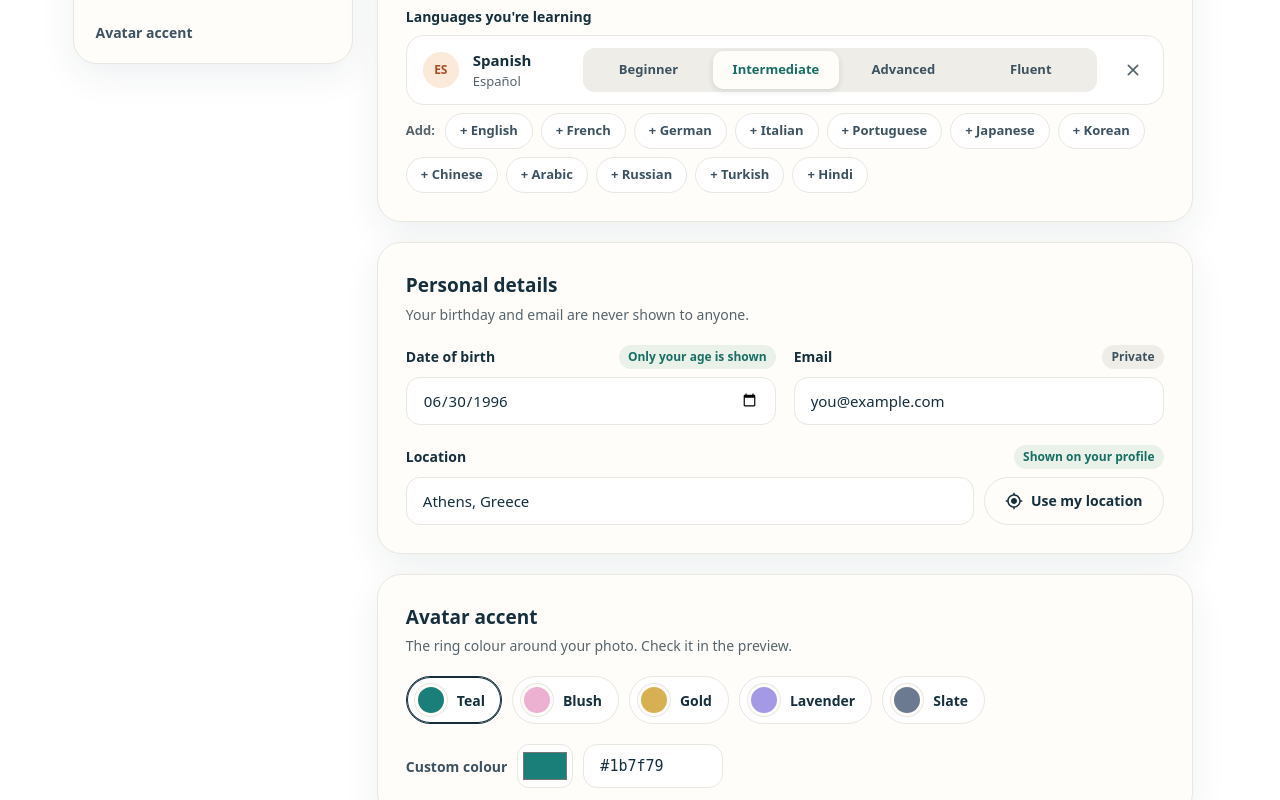
Scenario: EditProfilePage › changing the email back to the saved one hides the password field
The width and height of the screenshot is (1280, 800).
(page scrolled)
Step 1. Replace the text in the field labelled "Email" with "other@example.com" → (979, 400), box 794,376 -> 1164,424
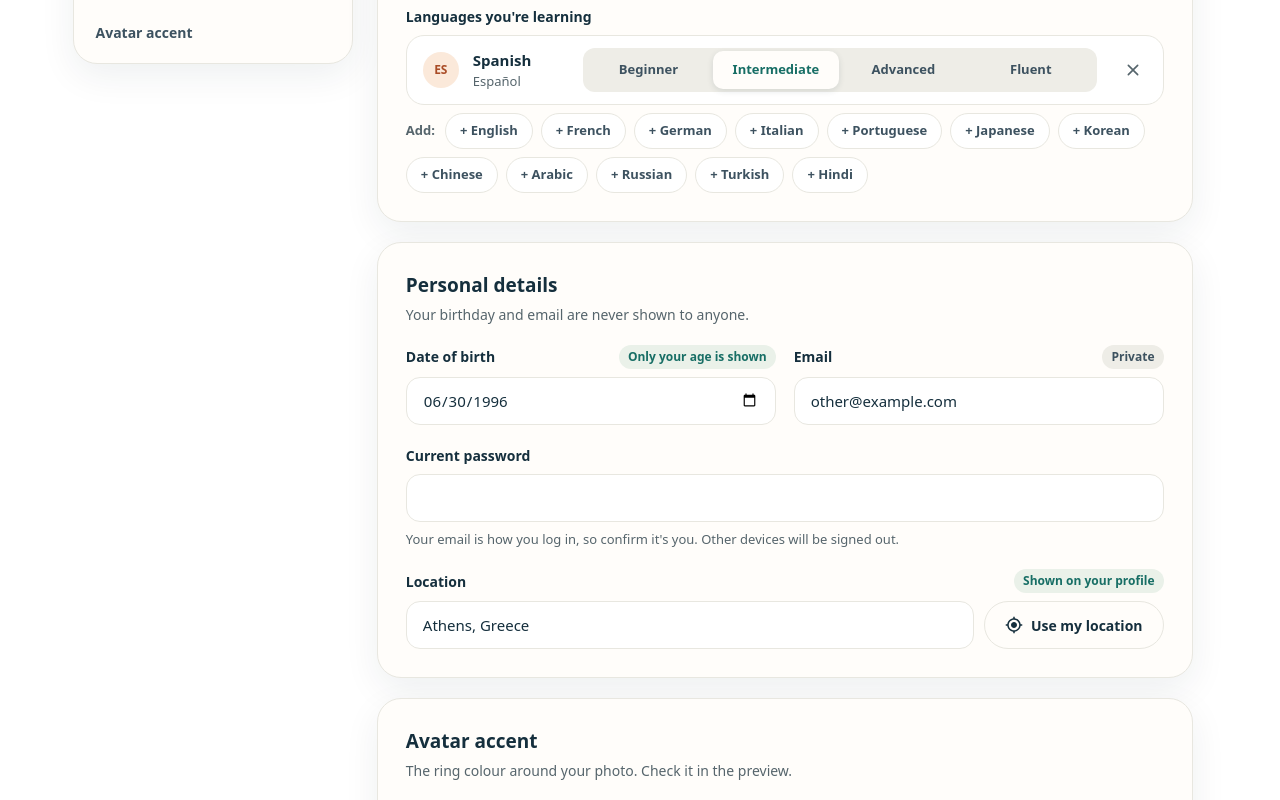
Check: the password field labelled "Current password" is shown, box 406,474 -> 1164,522
Step 2. Replace the text in the field labelled "Email" with "YOU@example.com " → (979, 400), box 794,376 -> 1164,424
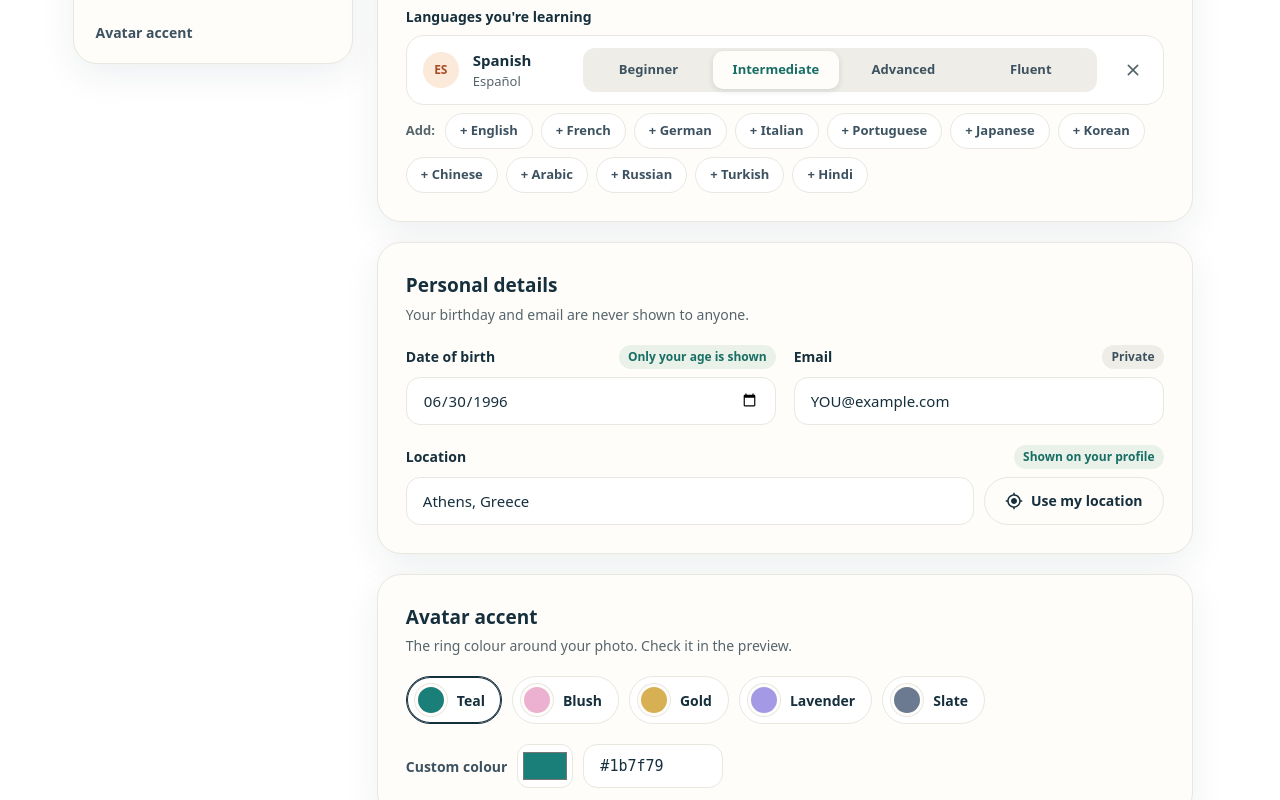
Check: the label labelled "Current password" is gone
